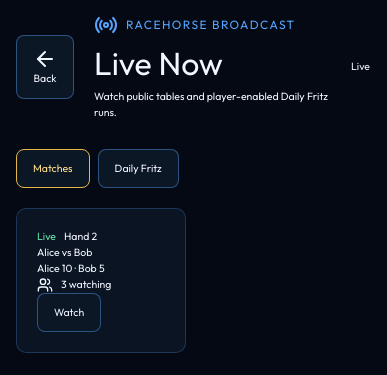
Scenario: LiveNowScreen › shows intentional empty Daily Fritz state
Expected: the heading "Alice vs Bob" is shown, [37,245,92,259]
Step 1. Click the tab "Daily Fritz" → (138, 168), box [98,148,179,188]
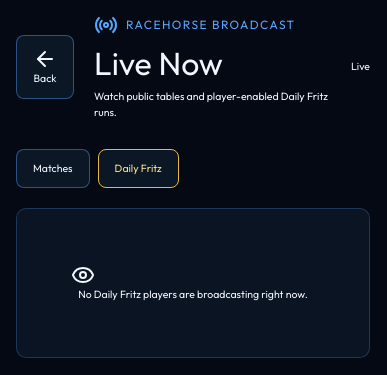
Now the heading "No Daily Fritz players are broadcasting right now." is shown, box [71,287,315,303]
